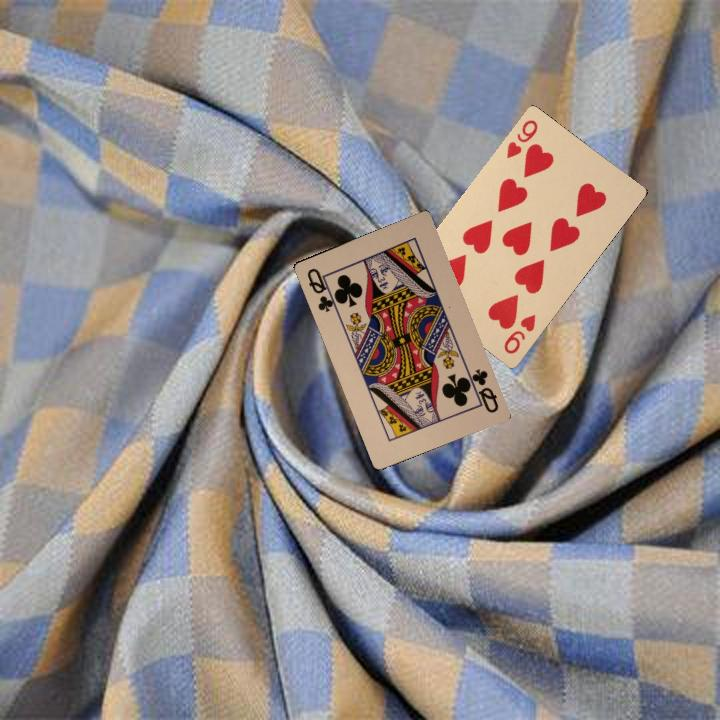9h: (500, 310, 538, 357), (502, 115, 540, 161)
Qc: (463, 365, 501, 416), (303, 264, 340, 315)
